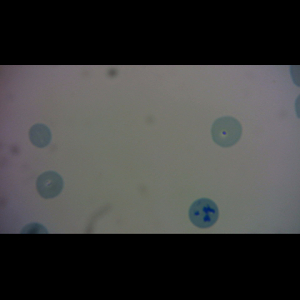aggregate reticulocyte: (188, 197, 220, 230)
erythrocyte: (210, 115, 243, 149), (35, 170, 64, 200), (27, 123, 53, 149)
